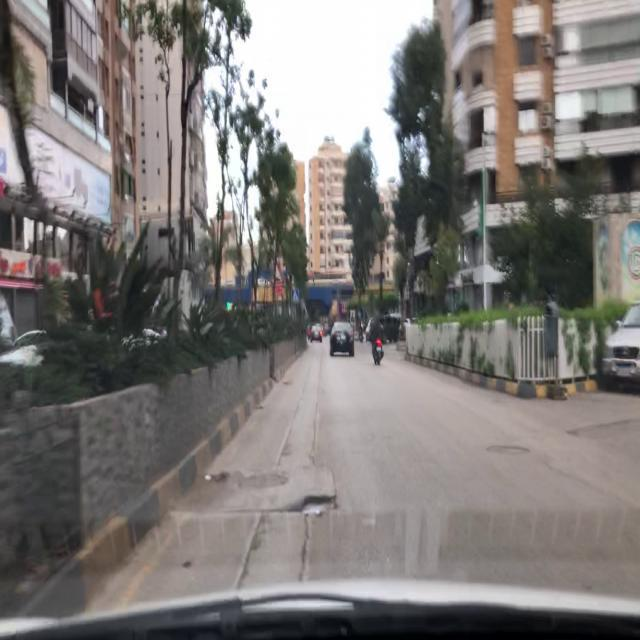pothole: (290, 491, 341, 519)
